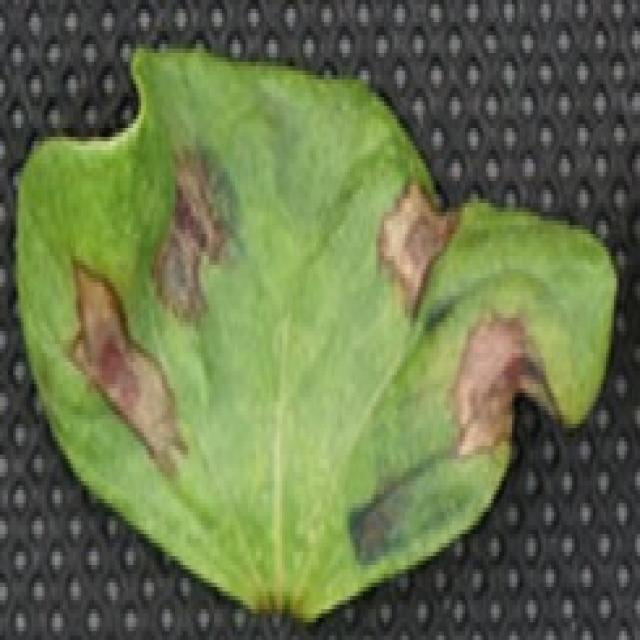Fusarium Wilt: (64, 146, 262, 455)
